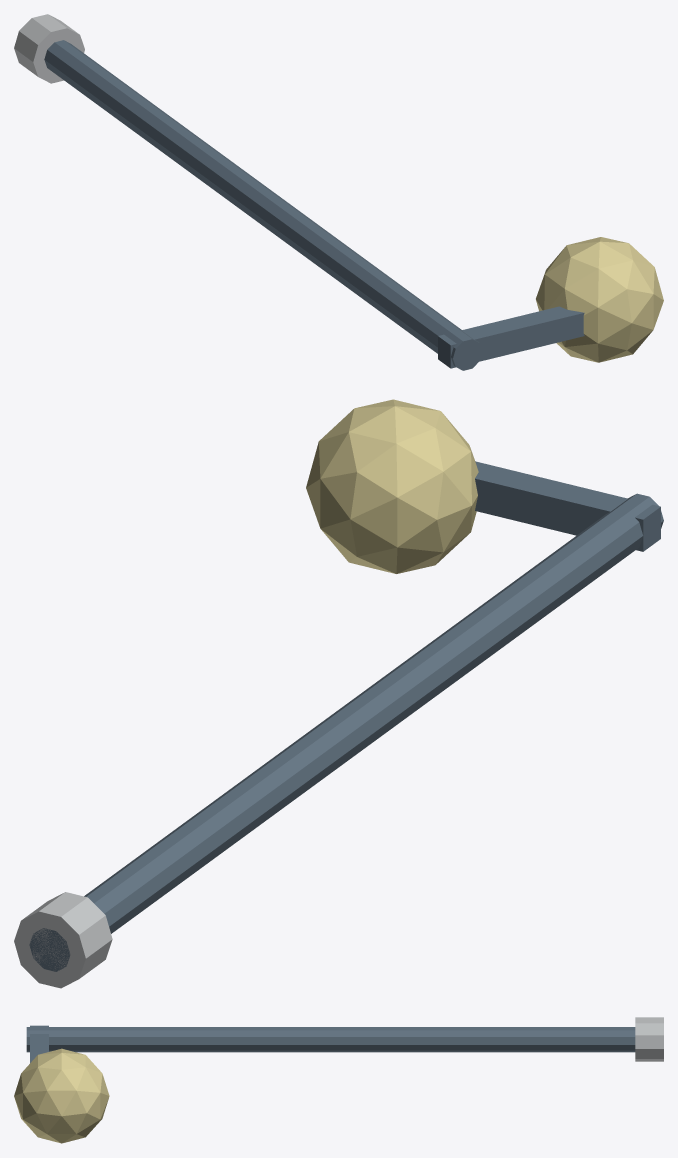
File: street-lamp.glb
The picture shows the model from 3 angles, top to bottom: view 1: azimuth 30°, elevation 25°; view 2: azimuth 150°, elevation 25°; view 3: azimuth 270°, elevation 25°; orthographic projection. The views are drawn at different scales.
Visible parts, largest first — view 1: world; view 2: world; view 3: world.
Part boxes in pixels (x1,y1,x2,y2): world: (14, 14, 663, 370); world: (14, 399, 663, 988); world: (14, 1017, 663, 1143).
Bounding box in the file's own units: 1.28 × 0.6 × 4.08.
